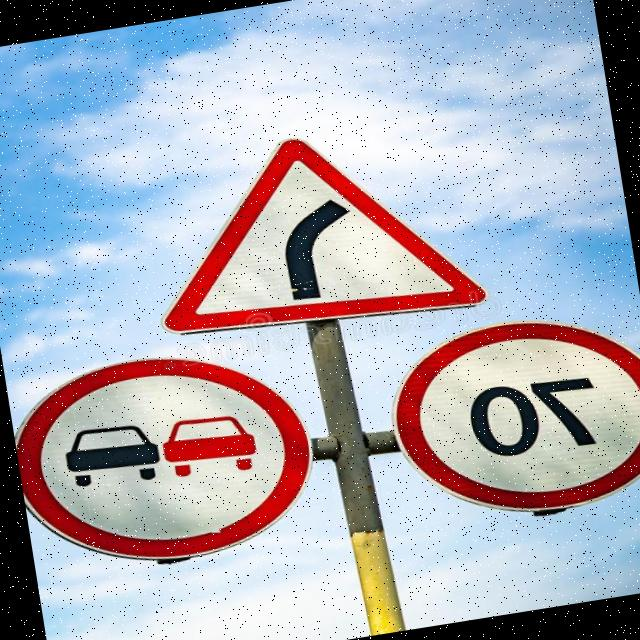no_passing: (5, 331, 337, 596)
